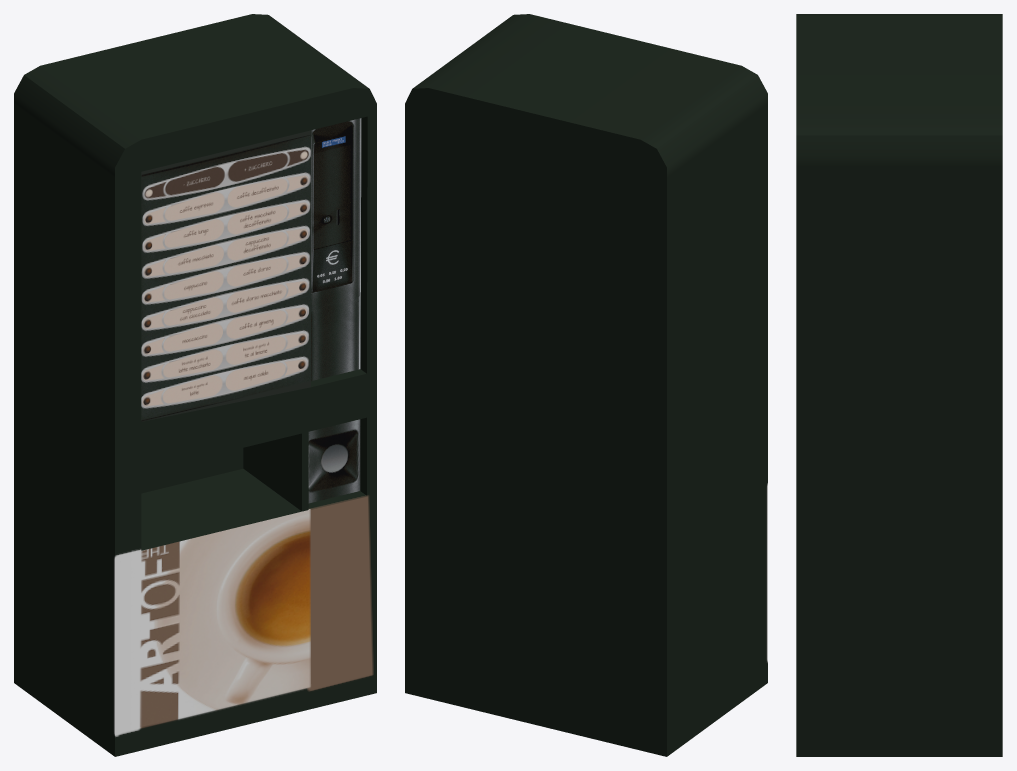
File: machine_a_cafer.fbx
3 views of the same model, side by side, from view 1: azimuth 30°, elevation 25°; view 2: azimuth 150°, elevation 25°; view 3: azimuth 270°, elevation 25° (orthographic).
Visible parts, largest first — view 1: machine_a_cafe; view 2: machine_a_cafe; view 3: machine_a_cafe.
Part boxes in pixels (<box>): machine_a_cafe: <box>14,14,376,756</box>; machine_a_cafe: <box>405,14,767,756</box>; machine_a_cafe: <box>796,14,1002,756</box>.
Bounding box in the file's own units: 2.99 × 6.66 × 2.
